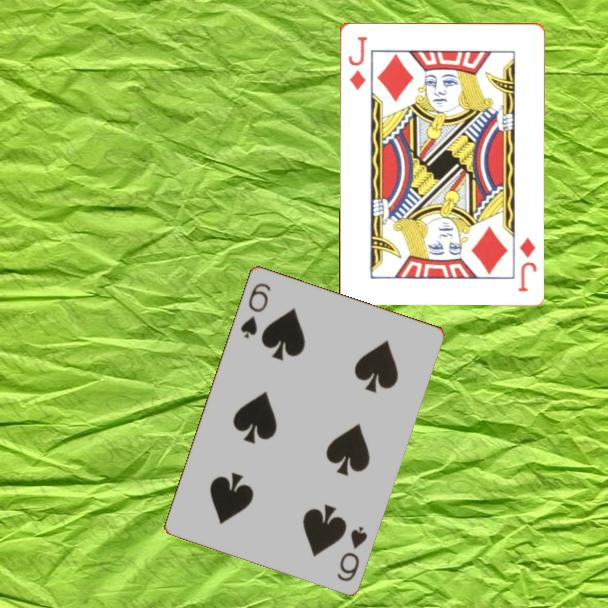d11: (344, 33, 370, 93), (514, 234, 539, 294)
s06: (237, 279, 274, 341), (333, 522, 370, 584)
